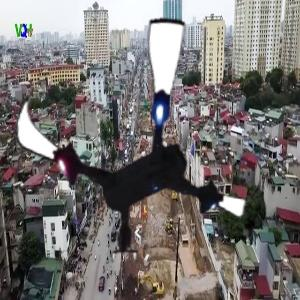drone: (10, 9, 273, 272)
